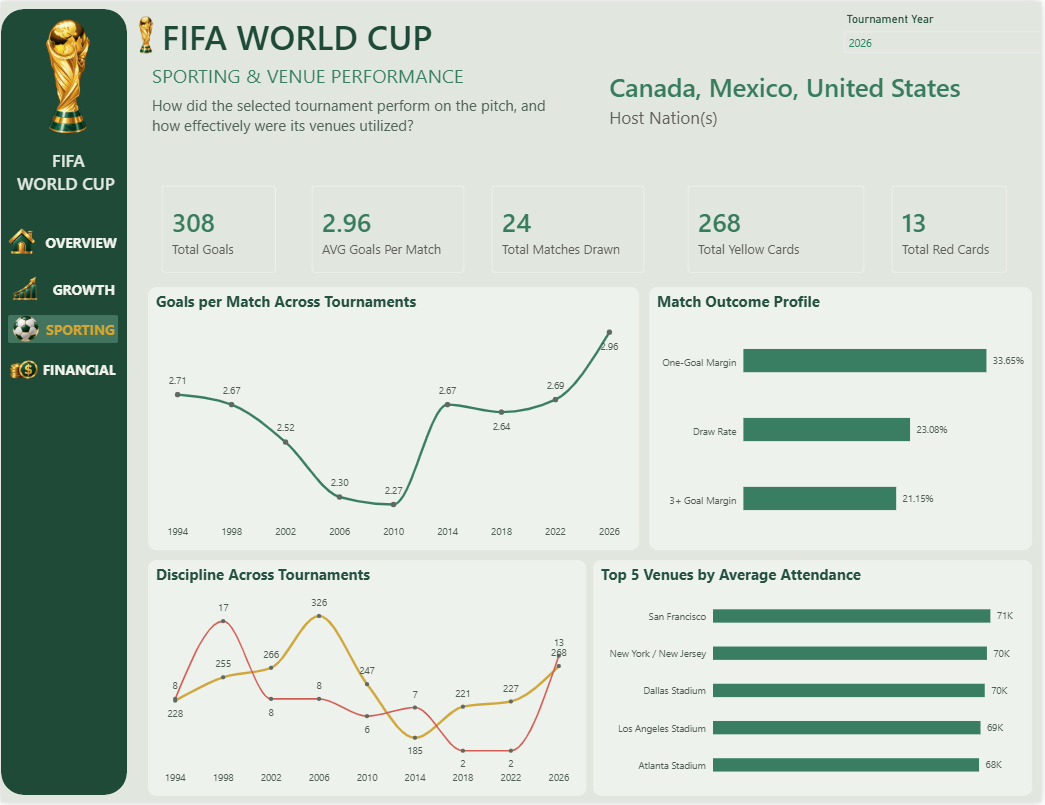

The dashboard page shown, as its layout file describes it:
{"tool":"powerbi","page":{"name":"Sporting & Venue Performance","canvas":[1300,1000],"ordinal":2},"visuals":[{"type":"shape","box":[0,8.8,157.5,982.5],"z":0},{"type":"textbox","box":[196.2,8.8,412.5,71.2],"z":1000},{"type":"textbox","box":[183.8,70,481.2,51.2],"z":2000},{"type":"textbox","box":[183.8,111.2,531.2,80],"z":3000},{"type":"slicer","fields":{"Values":["Dim_Tournament.Year"]},"box":[1043.8,8.8,312.5,71.2],"z":4000},{"type":"cardVisual","fields":{"Data":["_Measures.Selected Host"]},"box":[731.2,66.2,568.8,108.8],"z":5000},{"type":"cardVisual","fields":{"Data":["Sum(Sporting_Performance.total_goals)"]},"box":[183.8,212.5,177.5,143.8],"z":6000},{"type":"cardVisual","fields":{"Data":["Sum(Sporting_Performance.goals_per_match)"]},"box":[371.2,212.5,225,143.8],"z":7000},{"type":"cardVisual","fields":{"Data":["Sum(Sporting_Performance.yellow_cards)"]},"box":[841.2,212.5,255,143.8],"z":8000},{"type":"cardVisual","fields":{"Data":["Sum(Sporting_Performance.red_cards)"]},"box":[1096.2,212.5,178.8,143.8],"z":9000},{"type":"cardVisual","fields":{"Data":["Sum(Sporting_Performance.drawn_matches)"]},"box":[596.2,212.5,225,143.8],"z":10000},{"type":"lineChart","title":"Goals per Match Across Tournaments","fields":{"Category":["Sporting_Performance.year"],"Y":["Sum(Sporting_Performance.goals_per_match)"]},"box":[183.8,356.2,613.8,328.8],"z":11000},{"type":"clusteredBarChart","title":"Match Outcome Profile","fields":{"Category":["Sporting_Metric_Axis.Sporting Metric"],"Y":["Sporting_Metric_Axis.Sporting Metric Value"]},"box":[810,356.2,478.8,328.8],"z":12000},{"type":"lineChart","title":"Discipline Across Tournaments","fields":{"Category":["Sporting_Performance.year"],"Y":["Sum(Sporting_Performance.yellow_cards)"],"Y2":["Sum(Sporting_Performance.red_cards)"]},"box":[183.8,697.5,547.5,295],"z":13000},{"type":"clusteredBarChart","title":"Top 5 Venues by Average Attendance","fields":{"Y":["Sum(Stadium_Performance.avg_attendance_per_match)"],"Category":["Stadium_Performance.stadium_display_name"]},"box":[740,697.5,548.8,295],"z":14000},{"type":"image","box":[8.8,16.2,148.8,153.8],"z":14001},{"type":"actionButton","title":"OVERVIEW","box":[15,282.5,133.8,35],"z":14002},{"type":"textbox","box":[15,178.8,137.5,76.2],"z":14003},{"type":"actionButton","title":"GROWTH","box":[8.8,341.2,137.5,35],"z":14004},{"type":"actionButton","title":"SPORTING","box":[8.8,391.2,137.5,35],"z":14005},{"type":"actionButton","title":"FINANCIAL","box":[47.5,441.2,100,35],"z":14006},{"type":"image","box":[13.8,391.2,35,35],"z":14007},{"type":"image","box":[11.2,442.5,35,35],"z":14008},{"type":"image","box":[11.2,341.2,35,35],"z":14009},{"type":"image","box":[8.8,282.5,35,35],"z":14010},{"type":"image","box":[152.5,16.2,57.5,50],"z":14011}]}

Visuals, with their boxes in screenshot pixels (x1, y1, x2, y2), scaled from the page's 1300x1000 canvas onto the 1045x805 screenshot:
shape: box=[0, 7, 127, 798]
textbox: box=[158, 7, 489, 64]
textbox: box=[148, 56, 535, 98]
textbox: box=[148, 90, 575, 154]
slicer - Dim_Tournament.Year: box=[839, 7, 1044, 64]
cardVisual - _Measures.Selected Host: box=[588, 53, 1044, 141]
cardVisual - Sum(Sporting_Performance.total_goals): box=[148, 171, 290, 287]
cardVisual - Sum(Sporting_Performance.goals_per_match): box=[298, 171, 479, 287]
cardVisual - Sum(Sporting_Performance.yellow_cards): box=[676, 171, 881, 287]
cardVisual - Sum(Sporting_Performance.red_cards): box=[881, 171, 1025, 287]
cardVisual - Sum(Sporting_Performance.drawn_matches): box=[479, 171, 660, 287]
"Goals per Match Across Tournaments" lineChart: box=[148, 287, 641, 551]
"Match Outcome Profile" clusteredBarChart: box=[651, 287, 1036, 551]
"Discipline Across Tournaments" lineChart: box=[148, 561, 588, 799]
"Top 5 Venues by Average Attendance" clusteredBarChart: box=[595, 561, 1036, 799]
image: box=[7, 13, 127, 137]
"OVERVIEW" actionButton: box=[12, 227, 120, 256]
textbox: box=[12, 144, 123, 205]
"GROWTH" actionButton: box=[7, 275, 118, 303]
"SPORTING" actionButton: box=[7, 315, 118, 343]
"FINANCIAL" actionButton: box=[38, 355, 119, 383]
image: box=[11, 315, 39, 343]
image: box=[9, 356, 37, 384]
image: box=[9, 275, 37, 303]
image: box=[7, 227, 35, 256]
image: box=[123, 13, 169, 53]
